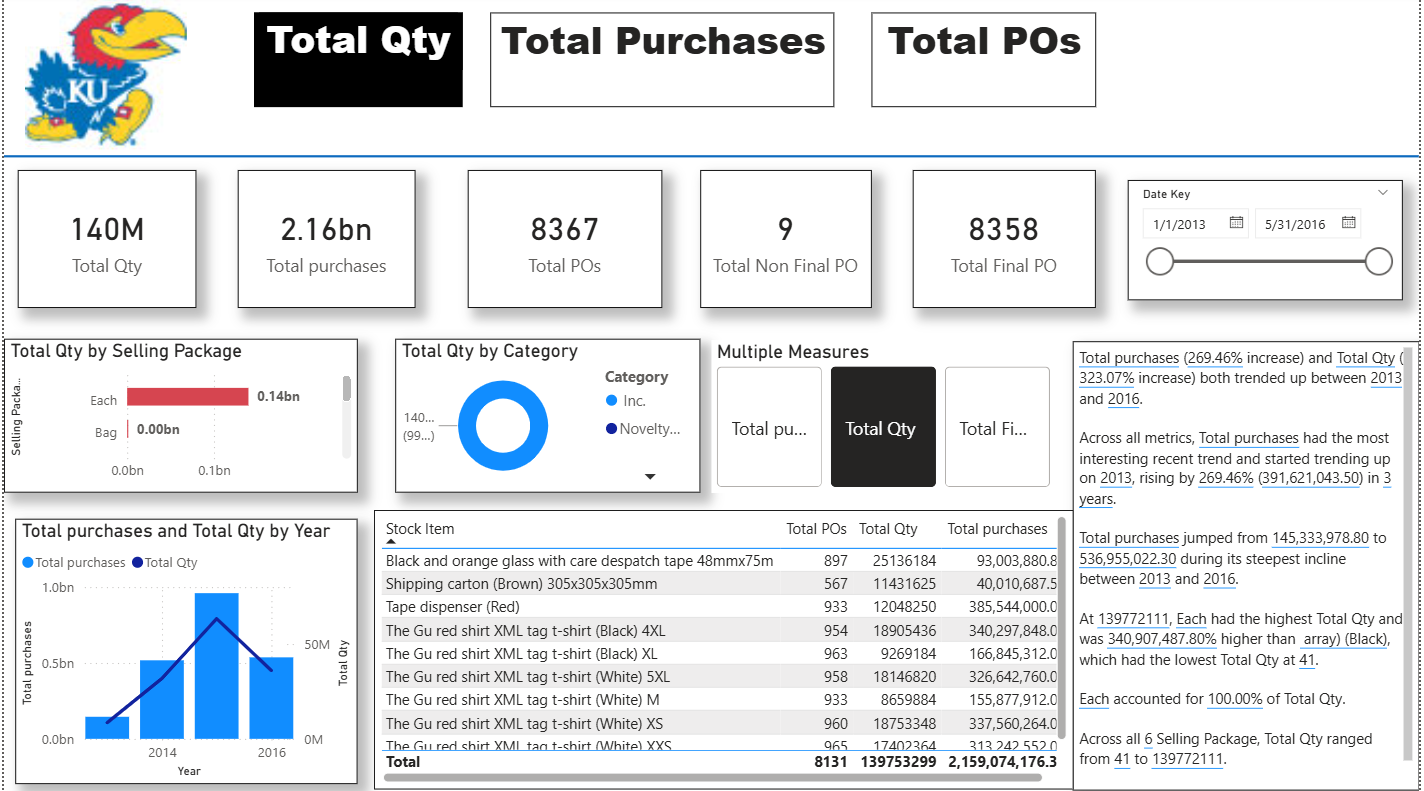

Layout of this report page (visuals, bound fields, positions):
{"tool":"powerbi","page":{"name":"Tool Tip","canvas":[1280,720],"ordinal":0},"visuals":[{"type":"image","box":[10.7,0,163.7,145.9],"z":0},{"type":"textbox","title":"Total Qty","box":[226,16,188.7,85.4],"z":1000},{"type":"textbox","title":"Total Purchases","box":[439.6,16,311.5,85.4],"z":2000},{"type":"textbox","title":"Total POs","box":[784.9,16,202.9,85.4],"z":3000},{"type":"shape","box":[0,121,1279.7,49.8],"z":4000},{"type":"card","fields":{"Values":["Table.Total Qty"]},"box":[12.5,158.4,162,124.6],"z":5000},{"type":"card","fields":{"Values":["Table.Total purchases"]},"box":[211.8,158.4,161,124.6],"z":6000},{"type":"card","fields":{"Values":["Table.Total POs"]},"box":[420,158.4,176.2,124.6],"z":7000},{"type":"card","fields":{"Values":["Table.Total Non Final PO"]},"box":[630,158.4,154.8,124.6],"z":8000},{"type":"card","fields":{"Values":["Table.Total Final PO"]},"box":[822.3,158.4,165.5,124.6],"z":9000},{"type":"slicer","fields":{"Values":["Fact_Purchase.Date Key"]},"box":[1016.3,167.3,249.2,108.6],"z":10000},{"type":"lineStackedColumnComboChart","fields":{"Category":["Date Table.Date.Variation.Date Hierarchy.Year","Date Table.Date.Variation.Date Hierarchy.Quarter","Date Table.Date.Variation.Date Hierarchy.Month","Date Table.Date.Variation.Date Hierarchy.Day"],"Y":["Table.Total purchases"],"Y2":["Table.Total Qty"]},"box":[10.7,473.4,309.7,240.3],"z":11000},{"type":"barChart","fields":{"Category":["dim_stock_item.Selling Package"],"Y":["Table.Total Qty"]},"box":[0,311.5,320.4,138.8],"z":12000},{"type":"donutChart","fields":{"Category":["dim_supplier.Category"],"Y":["Table.Total Qty"]},"box":[354.2,311.5,275.9,138.8],"z":13000},{"type":"advancedSlicerVisual","fields":{"Values":["Multiple Measures.Multiple Measures"]},"box":[640,311.7,313.3,138.3],"z":14000},{"type":"textbox","box":[966.7,313.3,313.3,406.7],"z":15000},{"type":"tableEx","fields":{"Values":["dim_stock_item.Stock Item","Table.Total POs","Table.Total Qty","Table.Total purchases"]},"box":[320,460,633.3,253.3],"z":16000}]}

Visuals, with their boxes in screenshot pixels (x1, y1, x2, y2), scaled from the page's 1280x720 canvas onto the 1424x791 screenshot:
image: x1=12, y1=0, x2=194, y2=160
"Total Qty" textbox: x1=251, y1=18, x2=461, y2=111
"Total Purchases" textbox: x1=489, y1=18, x2=836, y2=111
"Total POs" textbox: x1=873, y1=18, x2=1099, y2=111
shape: x1=0, y1=133, x2=1423, y2=188
card - Table.Total Qty: x1=14, y1=174, x2=194, y2=311
card - Table.Total purchases: x1=236, y1=174, x2=415, y2=311
card - Table.Total POs: x1=467, y1=174, x2=663, y2=311
card - Table.Total Non Final PO: x1=701, y1=174, x2=873, y2=311
card - Table.Total Final PO: x1=915, y1=174, x2=1099, y2=311
slicer - Fact_Purchase.Date Key: x1=1131, y1=184, x2=1408, y2=303
lineStackedColumnComboChart - Date Table.Date.Variation.Date Hierarchy.Year x Date Table.Date.Variation.Date Hierarchy.Quarter: x1=12, y1=520, x2=356, y2=784
barChart - dim_stock_item.Selling Package x Table.Total Qty: x1=0, y1=342, x2=356, y2=495
donutChart - dim_supplier.Category x Table.Total Qty: x1=394, y1=342, x2=701, y2=495
advancedSlicerVisual - Multiple Measures.Multiple Measures: x1=712, y1=342, x2=1061, y2=494
textbox: x1=1075, y1=344, x2=1423, y2=790
tableEx - dim_stock_item.Stock Item x Table.Total POs: x1=356, y1=505, x2=1061, y2=784
